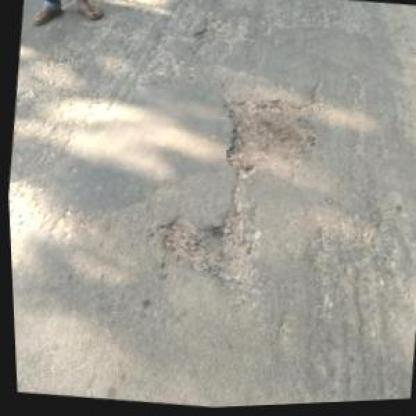pothole: (216, 89, 326, 186), (154, 204, 263, 299)
